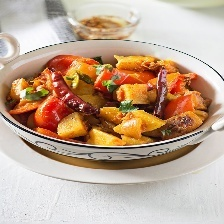sabzi: (3, 53, 210, 147)
